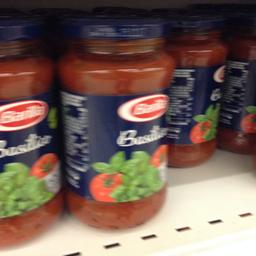tomato_sauce: (57, 22, 175, 228), (0, 20, 65, 246), (162, 18, 228, 164)
